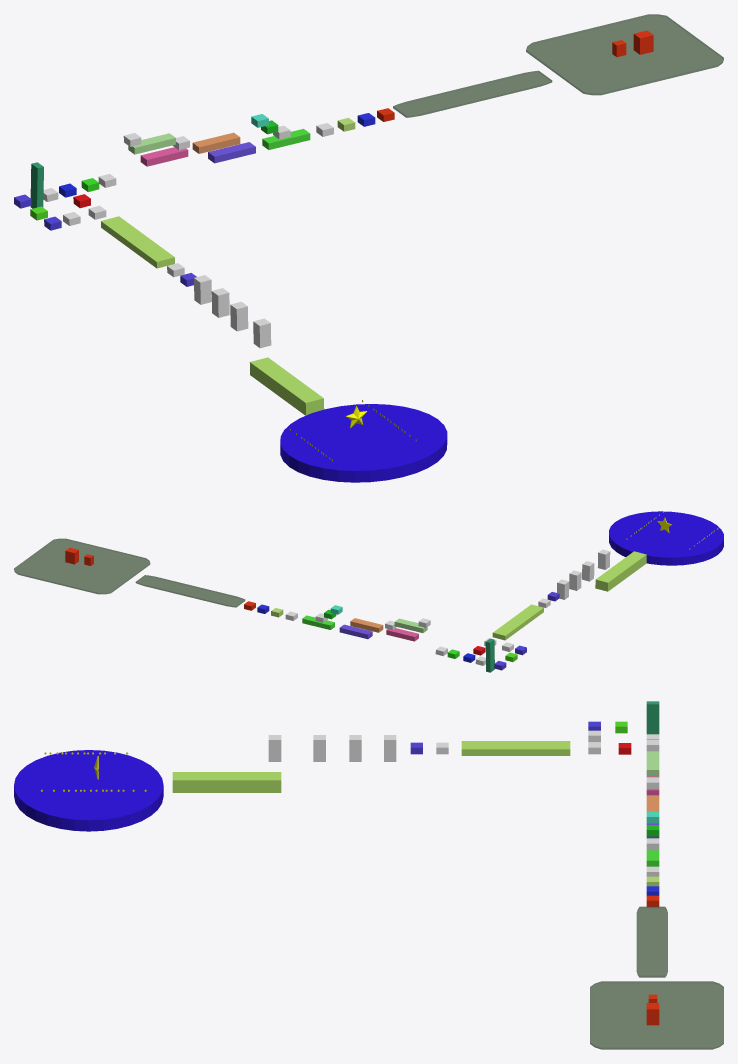
File: environment26.glb
The picture shows the model from 3 angles, top to bottom: view 1: azimuth 30°, elevation 25°; view 2: azimuth 150°, elevation 25°; view 3: azimuth 270°, elevation 25°; orthographic projection. The views are drawn at different scales.
Parts seen in each view (by area): view 1: Cylinder, Cube, Cube.001, Cube.035, Cube.028; view 2: Cylinder, Cube, Cube.001, Cube.035, Cube.028, Cube.021, Cube.011, Cube.012, Cube.013; view 3: Cylinder, Cube, Cube.035, Cube.001, Cube.028.
Boxes of the visible parts, <box> form: Cylinder: <box>280,404,447,482</box>; Cube: <box>526,14,723,95</box>; Cube.001: <box>393,70,552,117</box>; Cube.035: <box>249,357,324,415</box>; Cube.028: <box>101,216,174,268</box>; Cylinder: <box>609,511,723,565</box>; Cube: <box>14,538,150,594</box>; Cube.001: <box>135,575,245,607</box>; Cube.035: <box>595,551,646,591</box>; Cube.028: <box>492,604,543,640</box>; Cube.021: <box>485,638,494,672</box>; Cube.011: <box>339,624,372,639</box>; Cube.012: <box>350,618,383,632</box>; Cube.013: <box>386,628,418,641</box>; Cylinder: <box>14,750,163,831</box>; Cube: <box>590,981,723,1049</box>; Cube.035: <box>172,772,281,792</box>; Cube.001: <box>636,906,667,977</box>; Cube.028: <box>461,741,570,755</box>.
Bounding box in the file's own units: 125 × 14.58 × 114.
